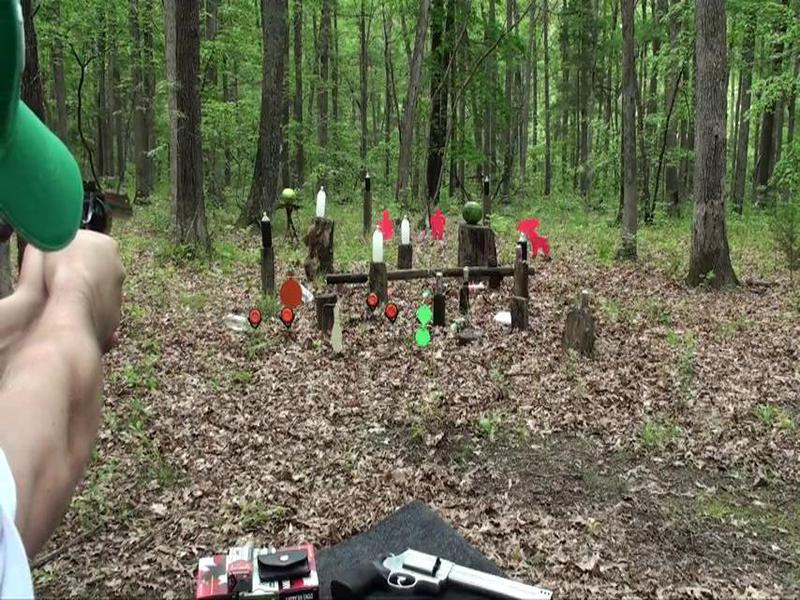Revolver: (66, 179, 149, 254)
